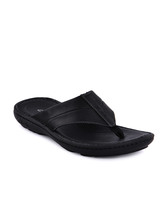shoes: (11, 91, 158, 155)
